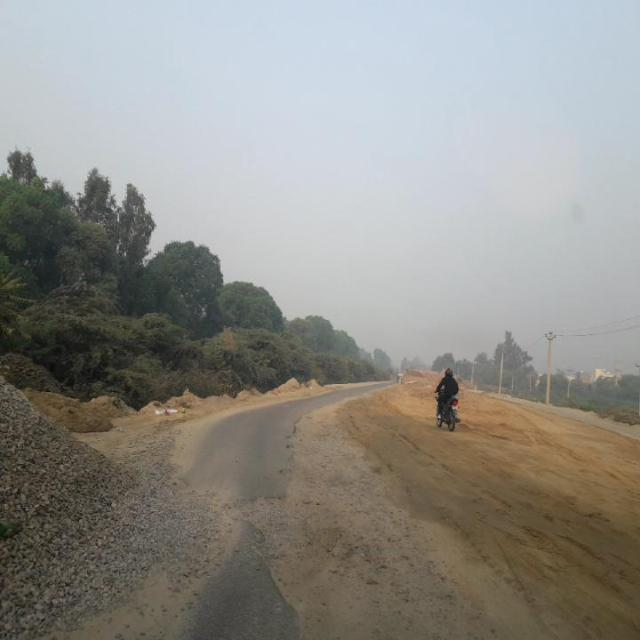Surface Erosion: (189, 344, 640, 640)
